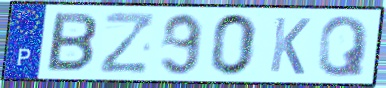0: (206, 13, 264, 78)
9: (160, 12, 205, 77)
B: (44, 10, 100, 74)
K: (267, 14, 313, 77)
Q: (316, 14, 372, 79)
Z: (97, 10, 157, 76)
